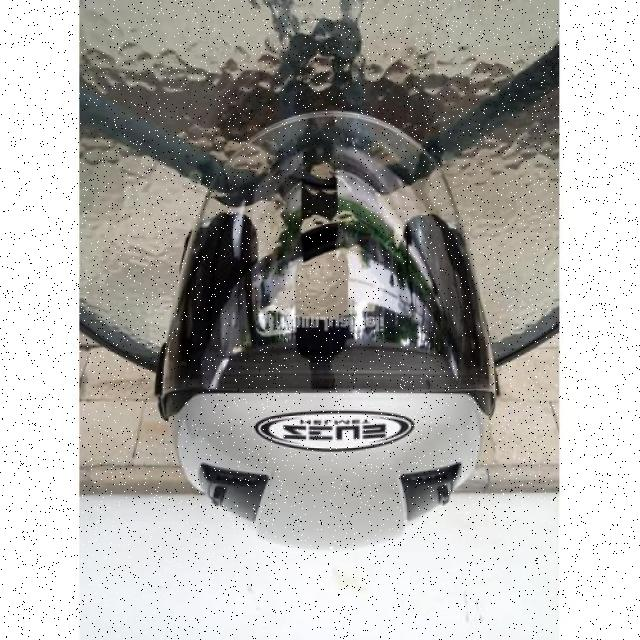Helmet: (154, 105, 500, 552)
